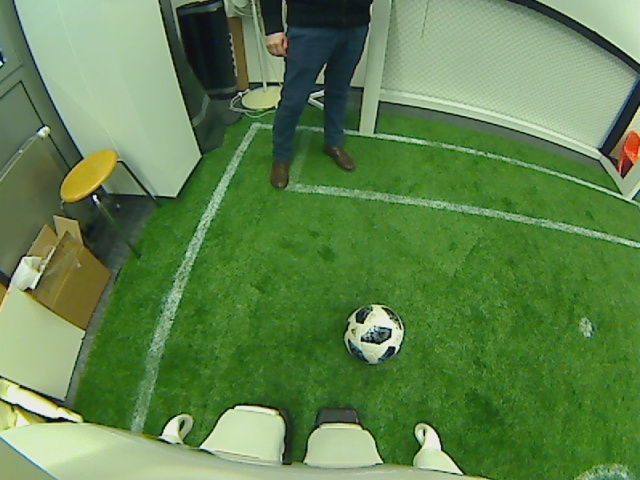ball: (341, 302, 407, 365)
